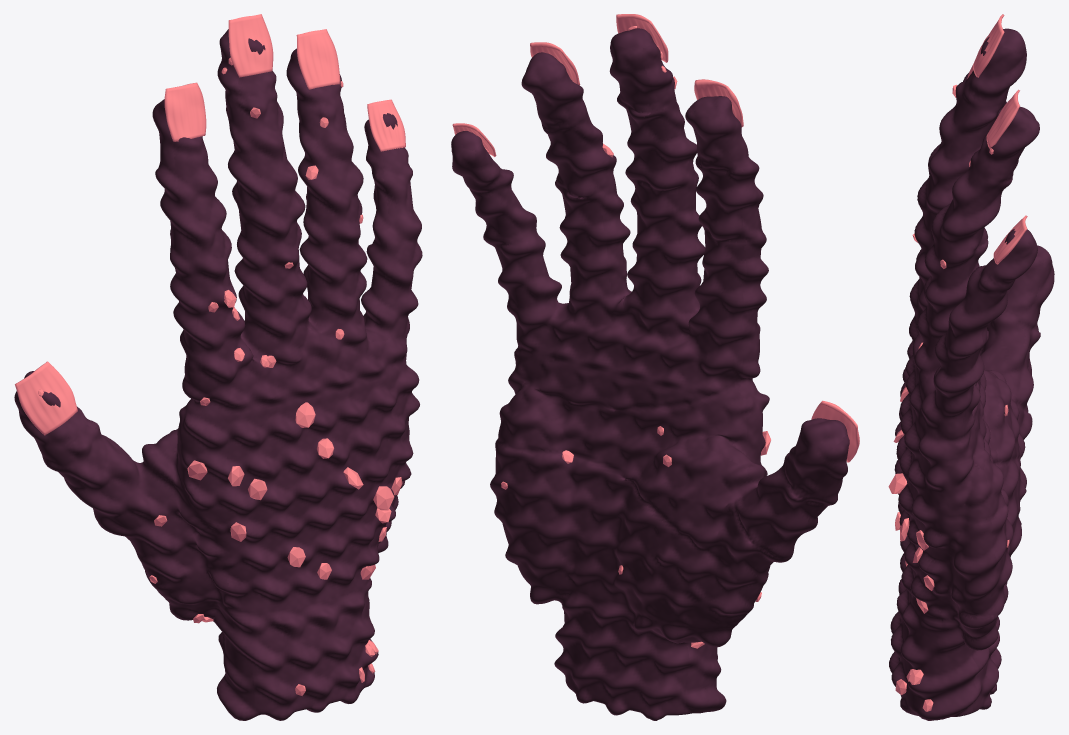
Rendered from family-03.glb.
3 renders of one model, left to right at view 1: azimuth 30°, elevation 25°; view 2: azimuth 150°, elevation 25°; view 3: azimuth 270°, elevation 25°, orthographic. The views are drawn at different scales.
Parts seen in each view (by area): view 1: fingers__fingers_sculpt, back_of_hand__back_of_hand_sculpt, wrist__wrist_sculpt, fingertips__fingertips_sculpt, back_of_hand, nails__thumb_claw, nails__middle_claw, palm__palm_sculpt, nails__ring_claw, nails__index_claw, fingers, nails__pinky_claw; view 2: fingers__fingers_sculpt, palm__palm_sculpt, wrist__wrist_sculpt, fingertips__fingertips_sculpt, nails__thumb_claw, nails__index_claw, nails__middle_claw, nails__ring_claw; view 3: fingers__fingers_sculpt, palm__palm_sculpt, wrist__wrist_sculpt, back_of_hand__back_of_hand_sculpt, fingertips__fingertips_sculpt, back_of_hand, nails__ring_claw, nails__middle_claw, nails__pinky_claw, wrist.
Boxes of the visible parts, x1,y1,x2,y2 form: fingers__fingers_sculpt: (41, 89, 422, 594); back_of_hand__back_of_hand_sculpt: (180, 361, 419, 612); wrist__wrist_sculpt: (169, 577, 378, 720); fingertips__fingertips_sculpt: (14, 29, 408, 454); back_of_hand: (187, 402, 402, 579); nails__thumb_claw: (15, 361, 77, 435); nails__middle_claw: (228, 14, 273, 77); palm__palm_sculpt: (160, 405, 405, 605); nails__ring_claw: (296, 29, 340, 89); nails__index_claw: (164, 82, 206, 141); fingers: (149, 107, 363, 583); nails__pinky_claw: (367, 99, 405, 151); fingers__fingers_sculpt: (465, 78, 839, 621); palm__palm_sculpt: (490, 345, 761, 630); wrist__wrist_sculpt: (523, 577, 732, 720); fingertips__fingertips_sculpt: (451, 28, 849, 497); nails__thumb_claw: (811, 400, 859, 462); nails__index_claw: (694, 79, 743, 127); nails__middle_claw: (616, 14, 668, 62); nails__ring_claw: (530, 42, 580, 85); fingers__fingers_sculpt: (905, 79, 1040, 504); palm__palm_sculpt: (947, 370, 1021, 633); wrist__wrist_sculpt: (889, 579, 1007, 720); back_of_hand__back_of_hand_sculpt: (894, 367, 949, 621); fingertips__fingertips_sculpt: (963, 28, 1054, 321); back_of_hand: (888, 386, 934, 613); nails__ring_claw: (986, 89, 1019, 148); nails__middle_claw: (973, 14, 1004, 77); nails__pinky_claw: (993, 215, 1027, 264); wrist: (895, 669, 933, 711).
Bounding box in the file's own units: 0.1342 × 0.2236 × 0.0505.
Materials: 2 (1 with a texture image).
